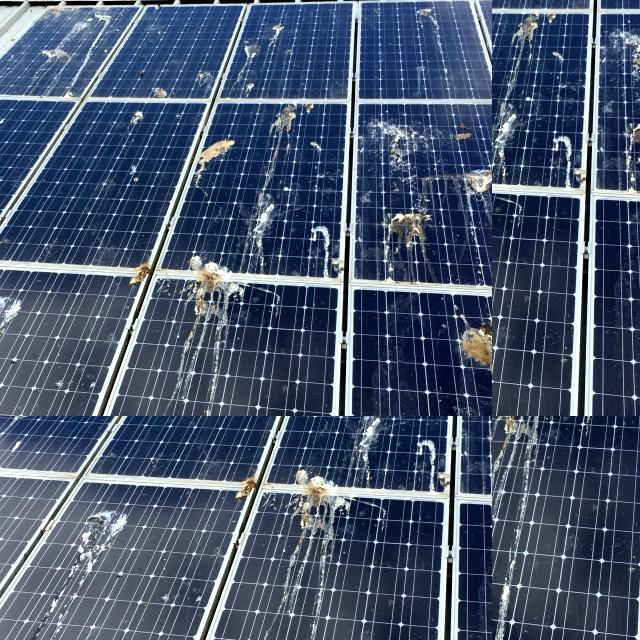bird: (492, 416, 563, 466), (492, 563, 527, 640), (492, 416, 528, 480), (492, 416, 533, 469), (589, 416, 640, 449), (549, 416, 608, 444), (492, 416, 539, 447), (583, 416, 614, 446), (492, 416, 517, 448), (0, 116, 16, 163), (0, 416, 19, 428), (51, 416, 66, 430), (24, 416, 54, 423), (10, 180, 20, 200), (100, 416, 121, 424), (4, 416, 20, 424), (75, 416, 91, 424), (57, 416, 72, 424), (0, 134, 4, 161), (71, 416, 89, 422), (24, 416, 41, 422), (85, 416, 97, 422), (28, 416, 40, 421), (105, 416, 119, 420), (115, 416, 126, 421), (64, 416, 72, 422), (92, 416, 101, 420)
crack: (492, 0, 559, 113), (492, 0, 553, 110), (492, 0, 533, 30), (492, 0, 534, 26), (492, 0, 528, 26), (492, 0, 534, 21)
dust: (5, 108, 60, 163), (0, 185, 30, 259), (0, 73, 32, 105)
